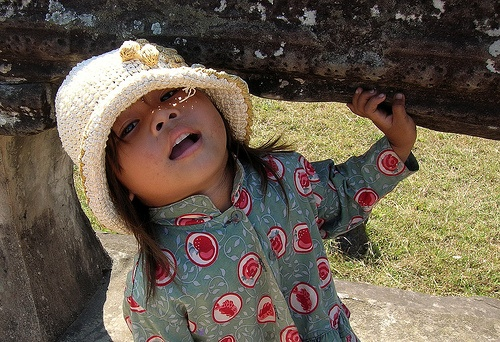head: (58, 48, 230, 208)
person: (64, 36, 435, 342)
